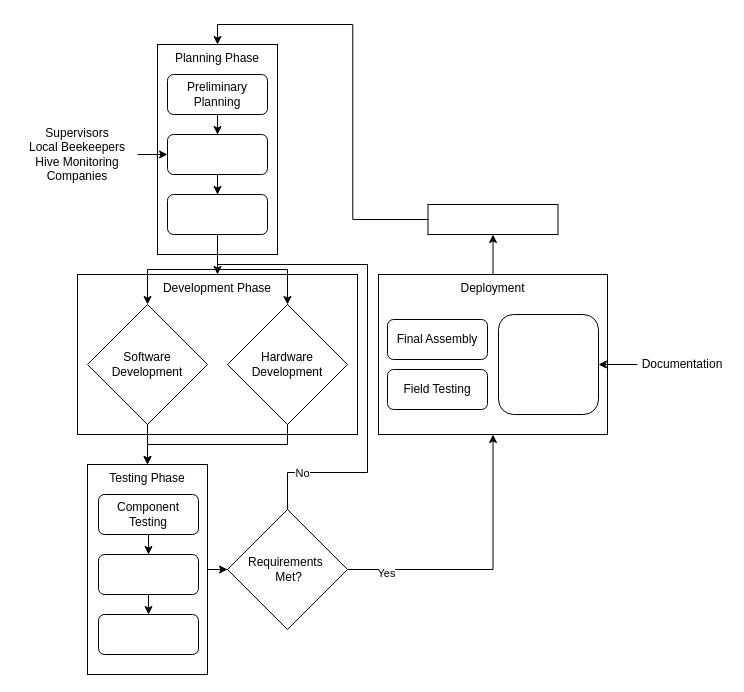
This 744x692 diagram has some shape labels left out. The centre of each missing label's shape, as x and y in pixels:
"Background Research" belongs at point 217,154.
"Integration Testing" belongs at point 148,574.
"Preliminary Design" belongs at point 217,214.
"Presentation and Submissions" belongs at point 548,364.
"Review" belongs at point 492,219.
"System Testing" belongs at point 148,634.
